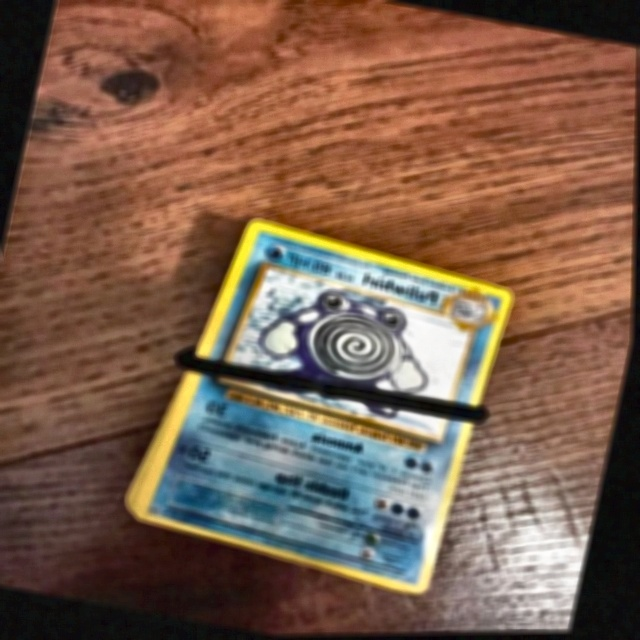card: (134, 219, 514, 595)
